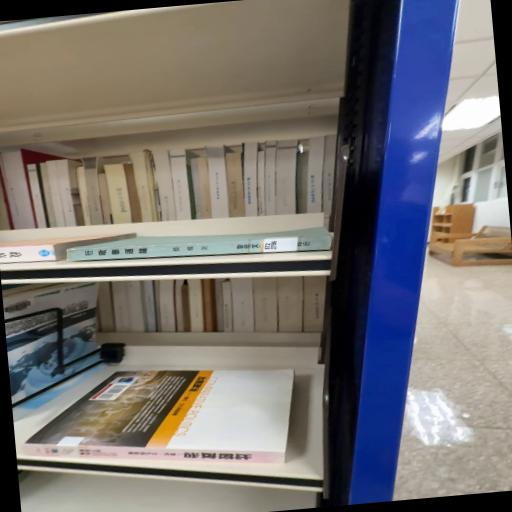flat: (24, 370, 295, 466), (68, 228, 333, 263)
